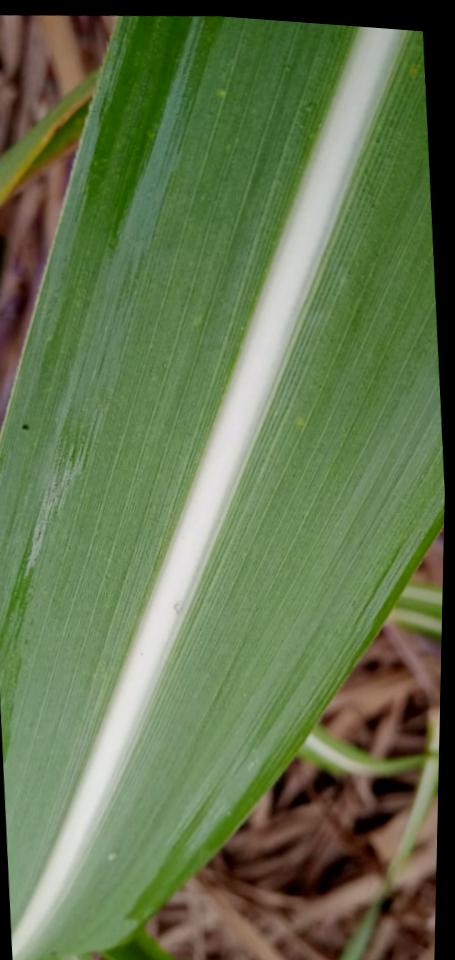Healthy: (0, 16, 445, 960)
